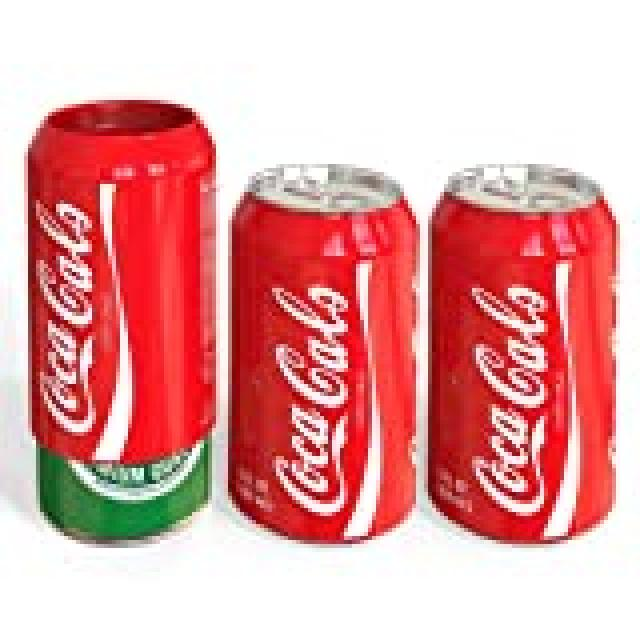can: (29, 98, 223, 545), (228, 167, 422, 553), (424, 167, 616, 557)
